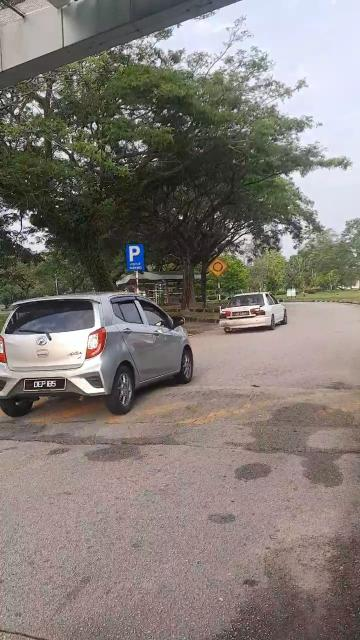License_Plate: (23, 377, 69, 394)
car: (1, 290, 185, 416), (216, 284, 291, 334)
